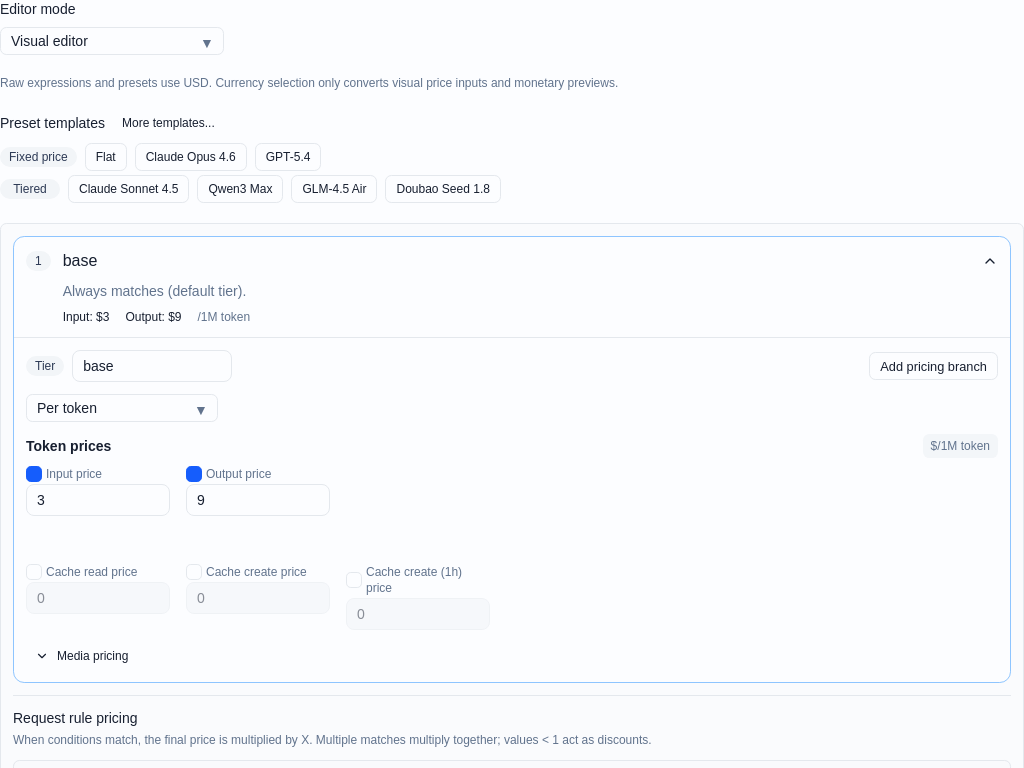
Test: uses condition trees by default without changing pricing: tier("base", p * 3.00 + c * 9)
Expected: the button "Add pricing branch" is shown, [869,352,998,380]
What coordinates should you click on to do the following:
click the dropdown named "Editor mode"
I would click on:
 (112, 41)
Its box is [0,27,224,55].
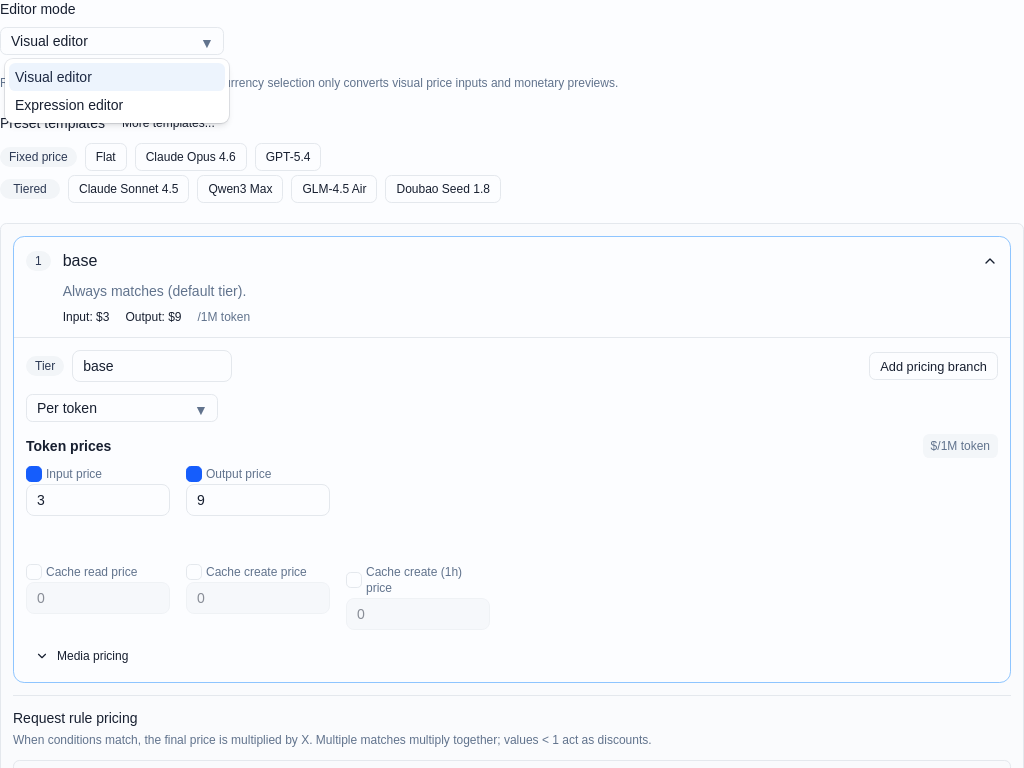
What coordinates should you click on to do the following:
click the option "Expression editor"
I would click on:
 (69, 105)
Its box is [15,97,123,113].
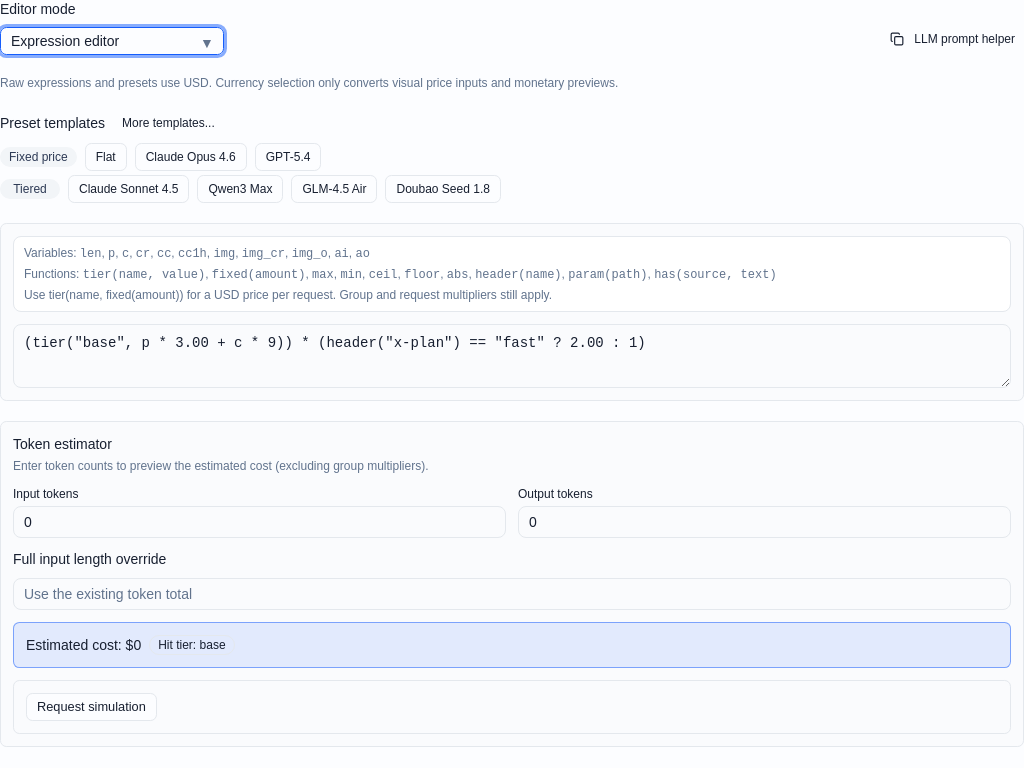
What coordinates should you click on to do the following:
click the dropdown named "Editor mode"
I would click on:
 (112, 41)
Its box is [0,27,224,55].
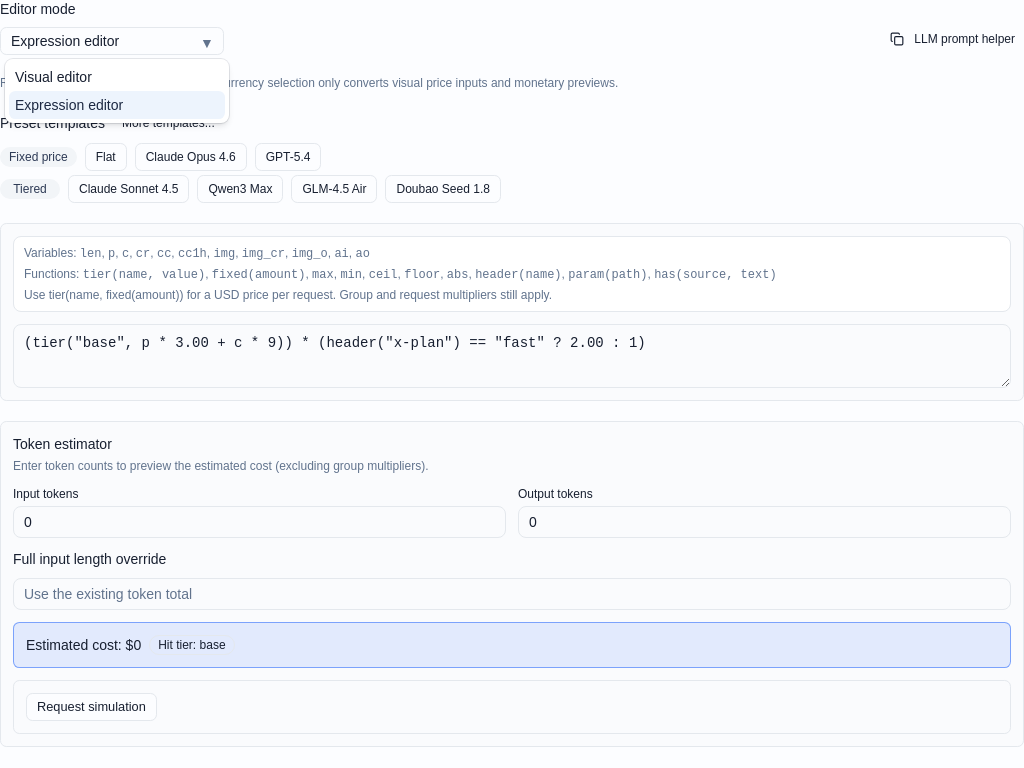
What coordinates should you click on to do the following:
click the option "Visual editor"
I would click on:
 (53, 77)
Its box is [15,69,92,85].
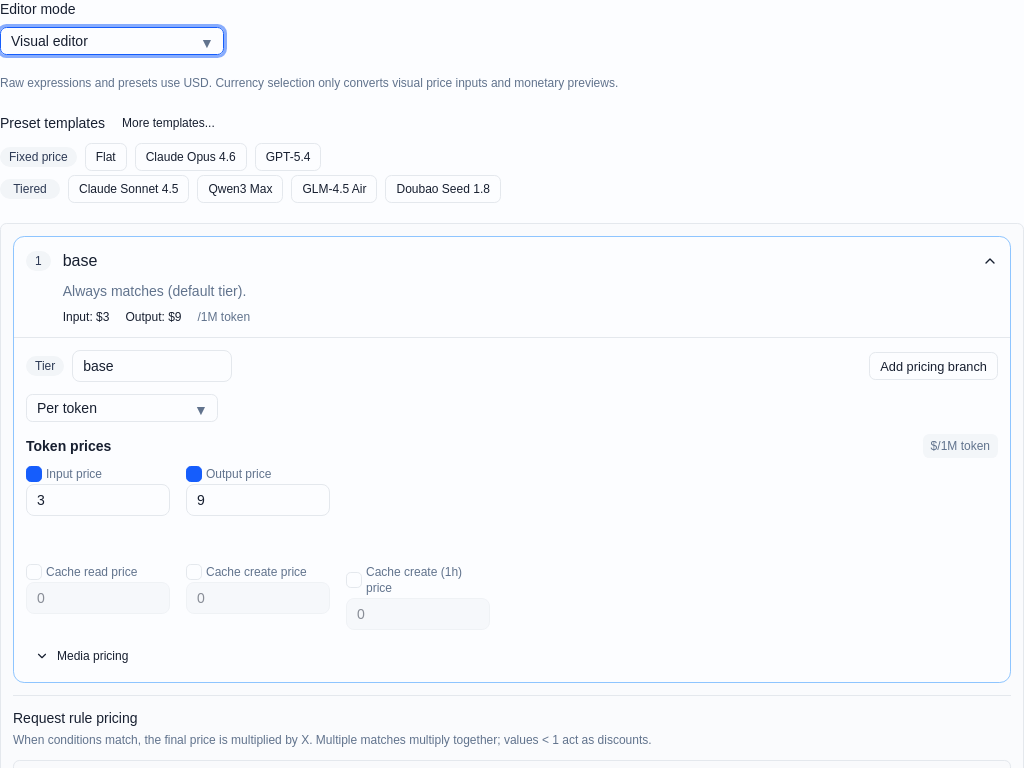
Now the button "Add pricing branch" is shown, box [869,352,998,380]
